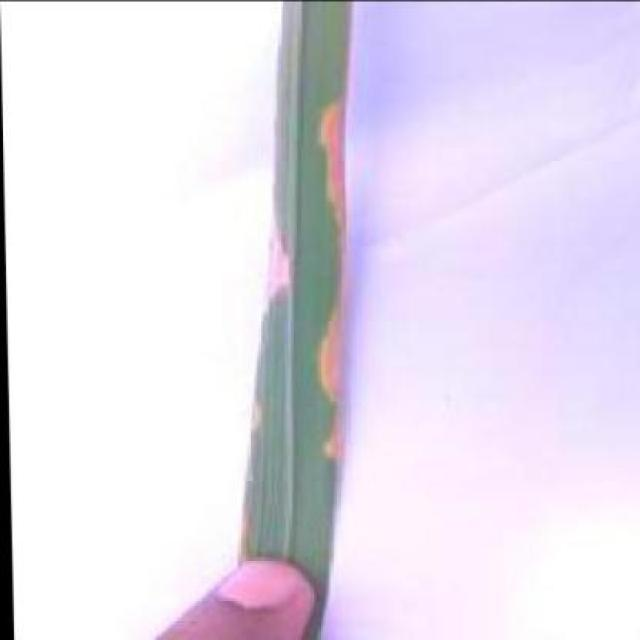Brown_Spot: (252, 54, 383, 506)
